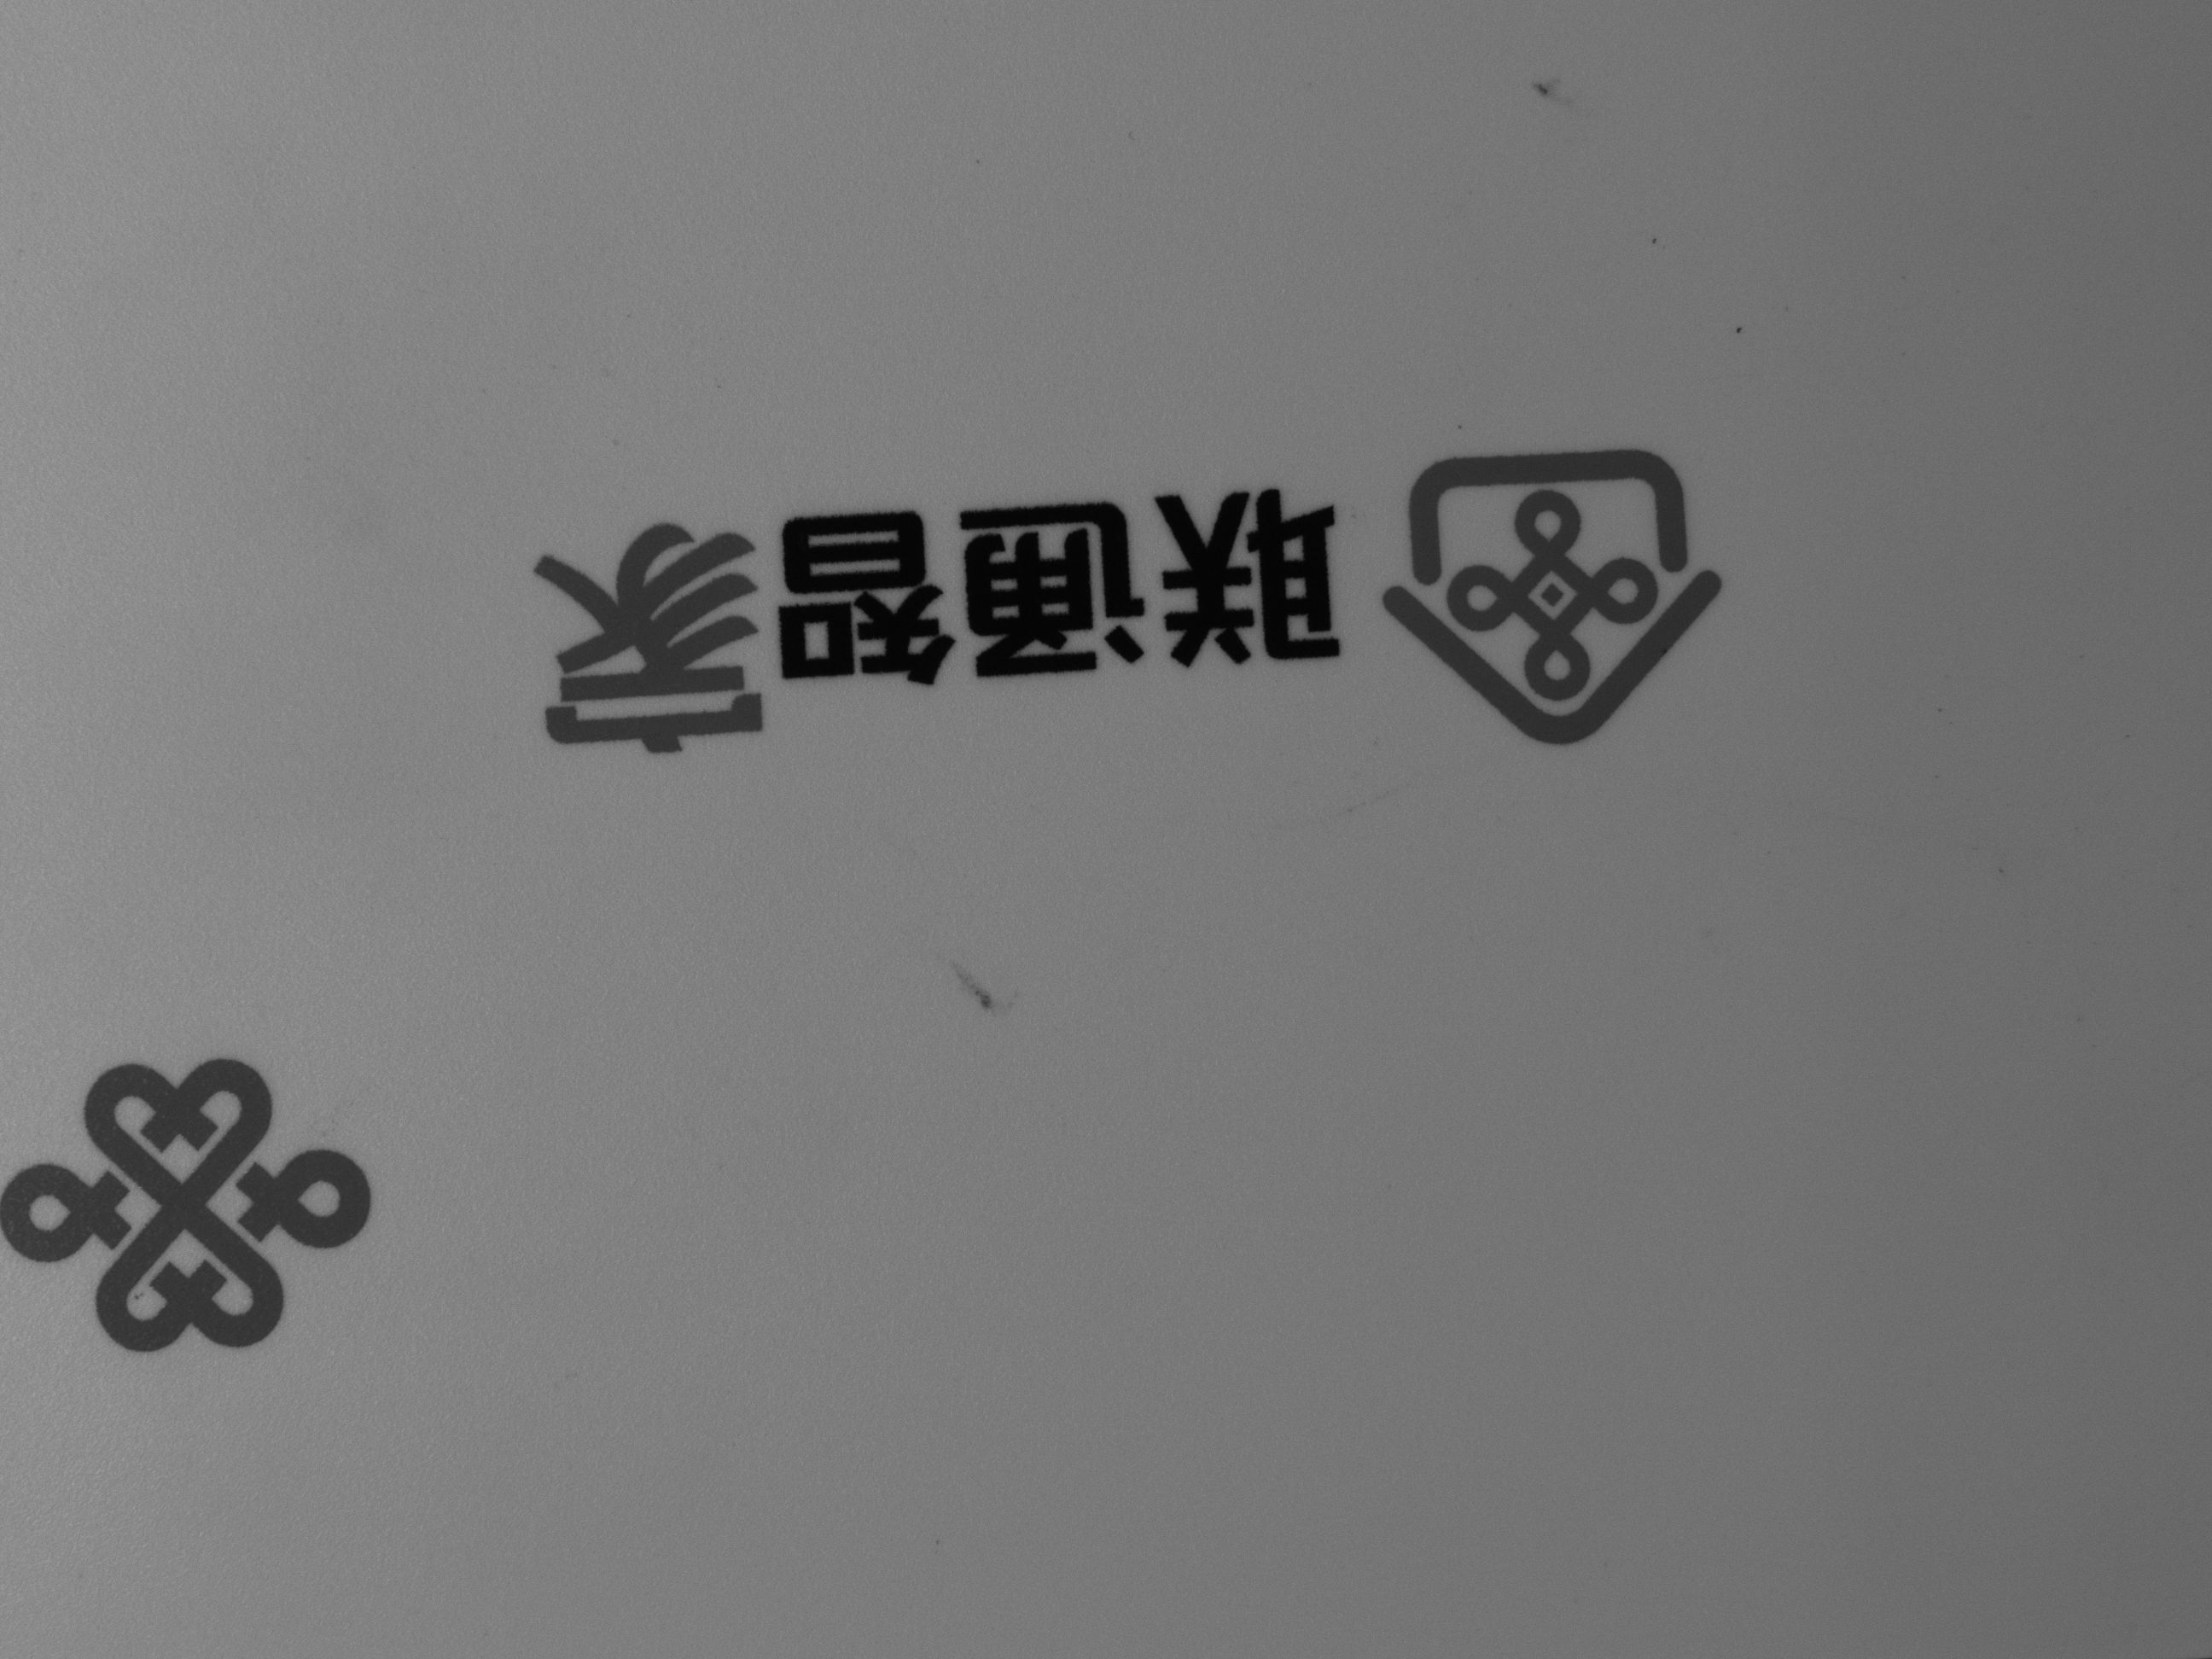BY_F6610Unicome: (477, 383, 1763, 770)
